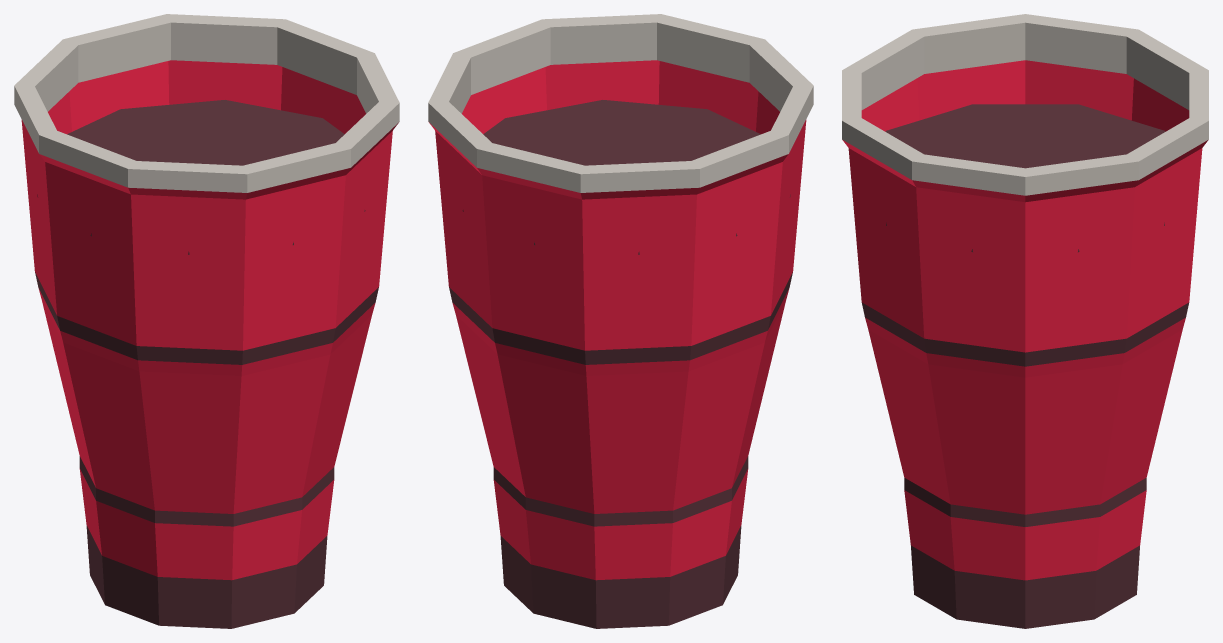
The model's file is PaperCup.obj.
3 views of the same model, side by side, from view 1: azimuth 30°, elevation 25°; view 2: azimuth 150°, elevation 25°; view 3: azimuth 270°, elevation 25° (orthographic).
Visible parts, largest first — view 1: PaperCup; view 2: PaperCup; view 3: PaperCup.
Part boxes in pixels (box(x1,y1,x2,y2)): PaperCup: box(14, 14, 399, 628); PaperCup: box(428, 14, 813, 628); PaperCup: box(842, 14, 1208, 628).
Bounding box in the file's own units: 0.112 × 0.155 × 0.1065.
Materials: 1 (1 with a texture image).
